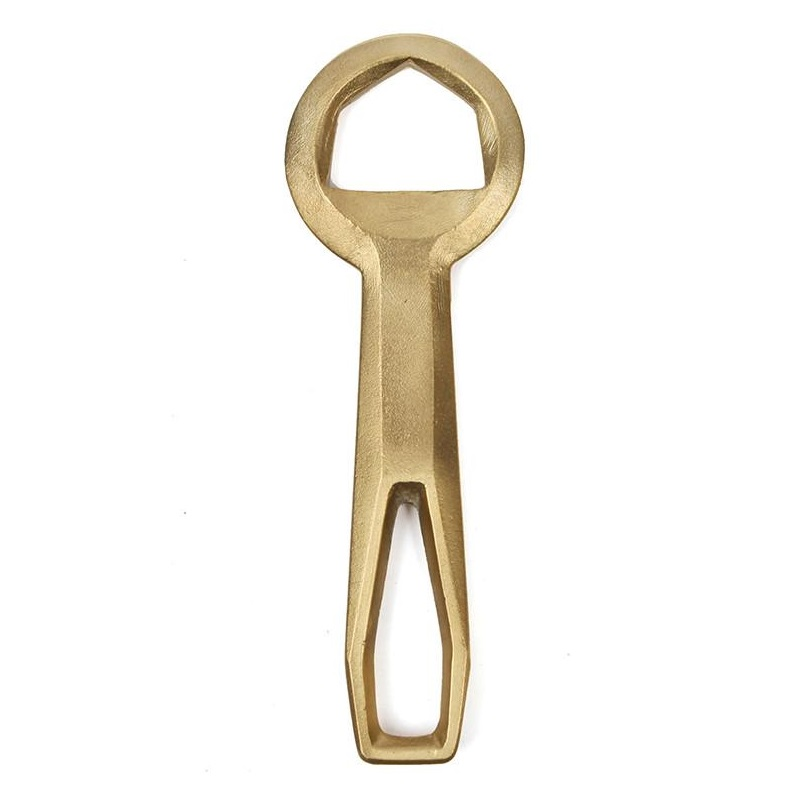bottleopener: (285, 33, 526, 764)
